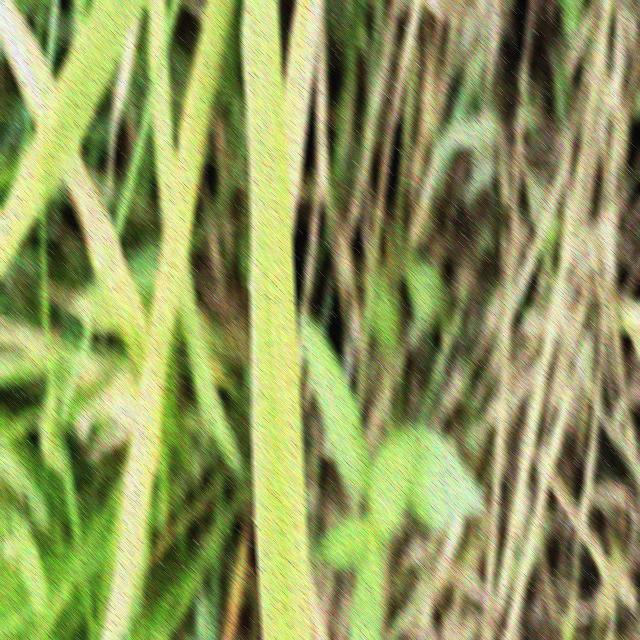NBS: (285, 358, 292, 412), (268, 470, 273, 507)
